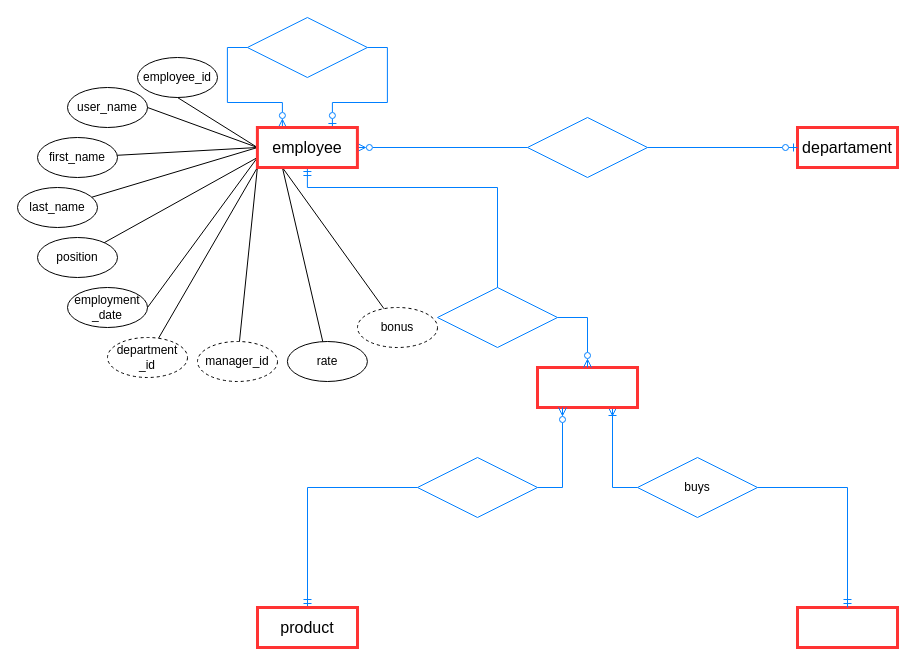
Image size: 916x666. Some labels were removed from this diagram. The box of each missing label's shape, as (x1, y1, x2, y2) in pixels:
customer: (796, 606, 898, 648)
manages: (246, 16, 367, 78)
orders: (536, 366, 638, 408)
places: (436, 286, 558, 348)
sells: (416, 456, 538, 518)
works_for: (526, 116, 648, 178)
